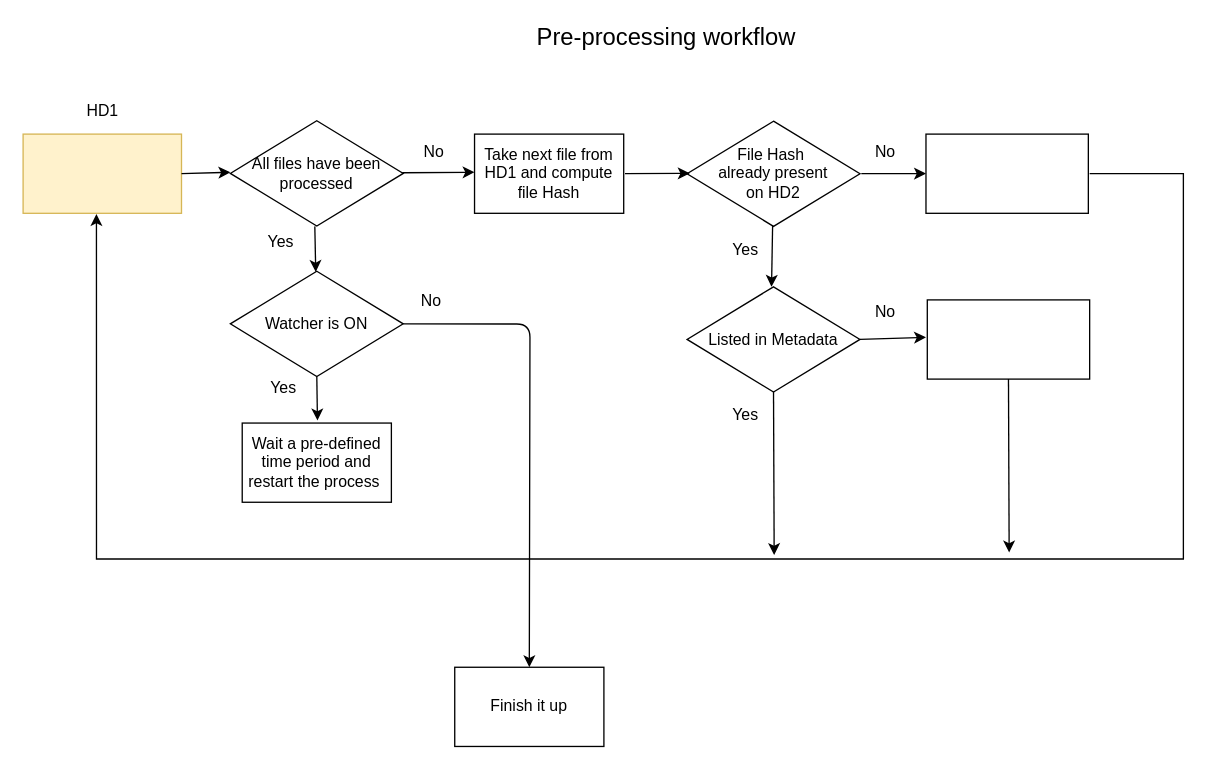
Image size: 1217x770. Some labels were removed from this diagram. The centre of each missing label's shape, as x and y in pixels:
"Create Metadata and copy the file to HD2" belongs at point (1006, 173).
"Source" belongs at point (102, 173).
"Update Metadata with the file name" belongs at point (1008, 339).
